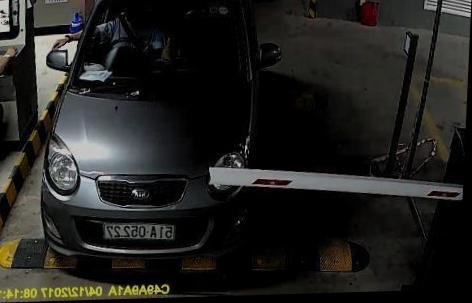License_Plate: (102, 219, 178, 242)
